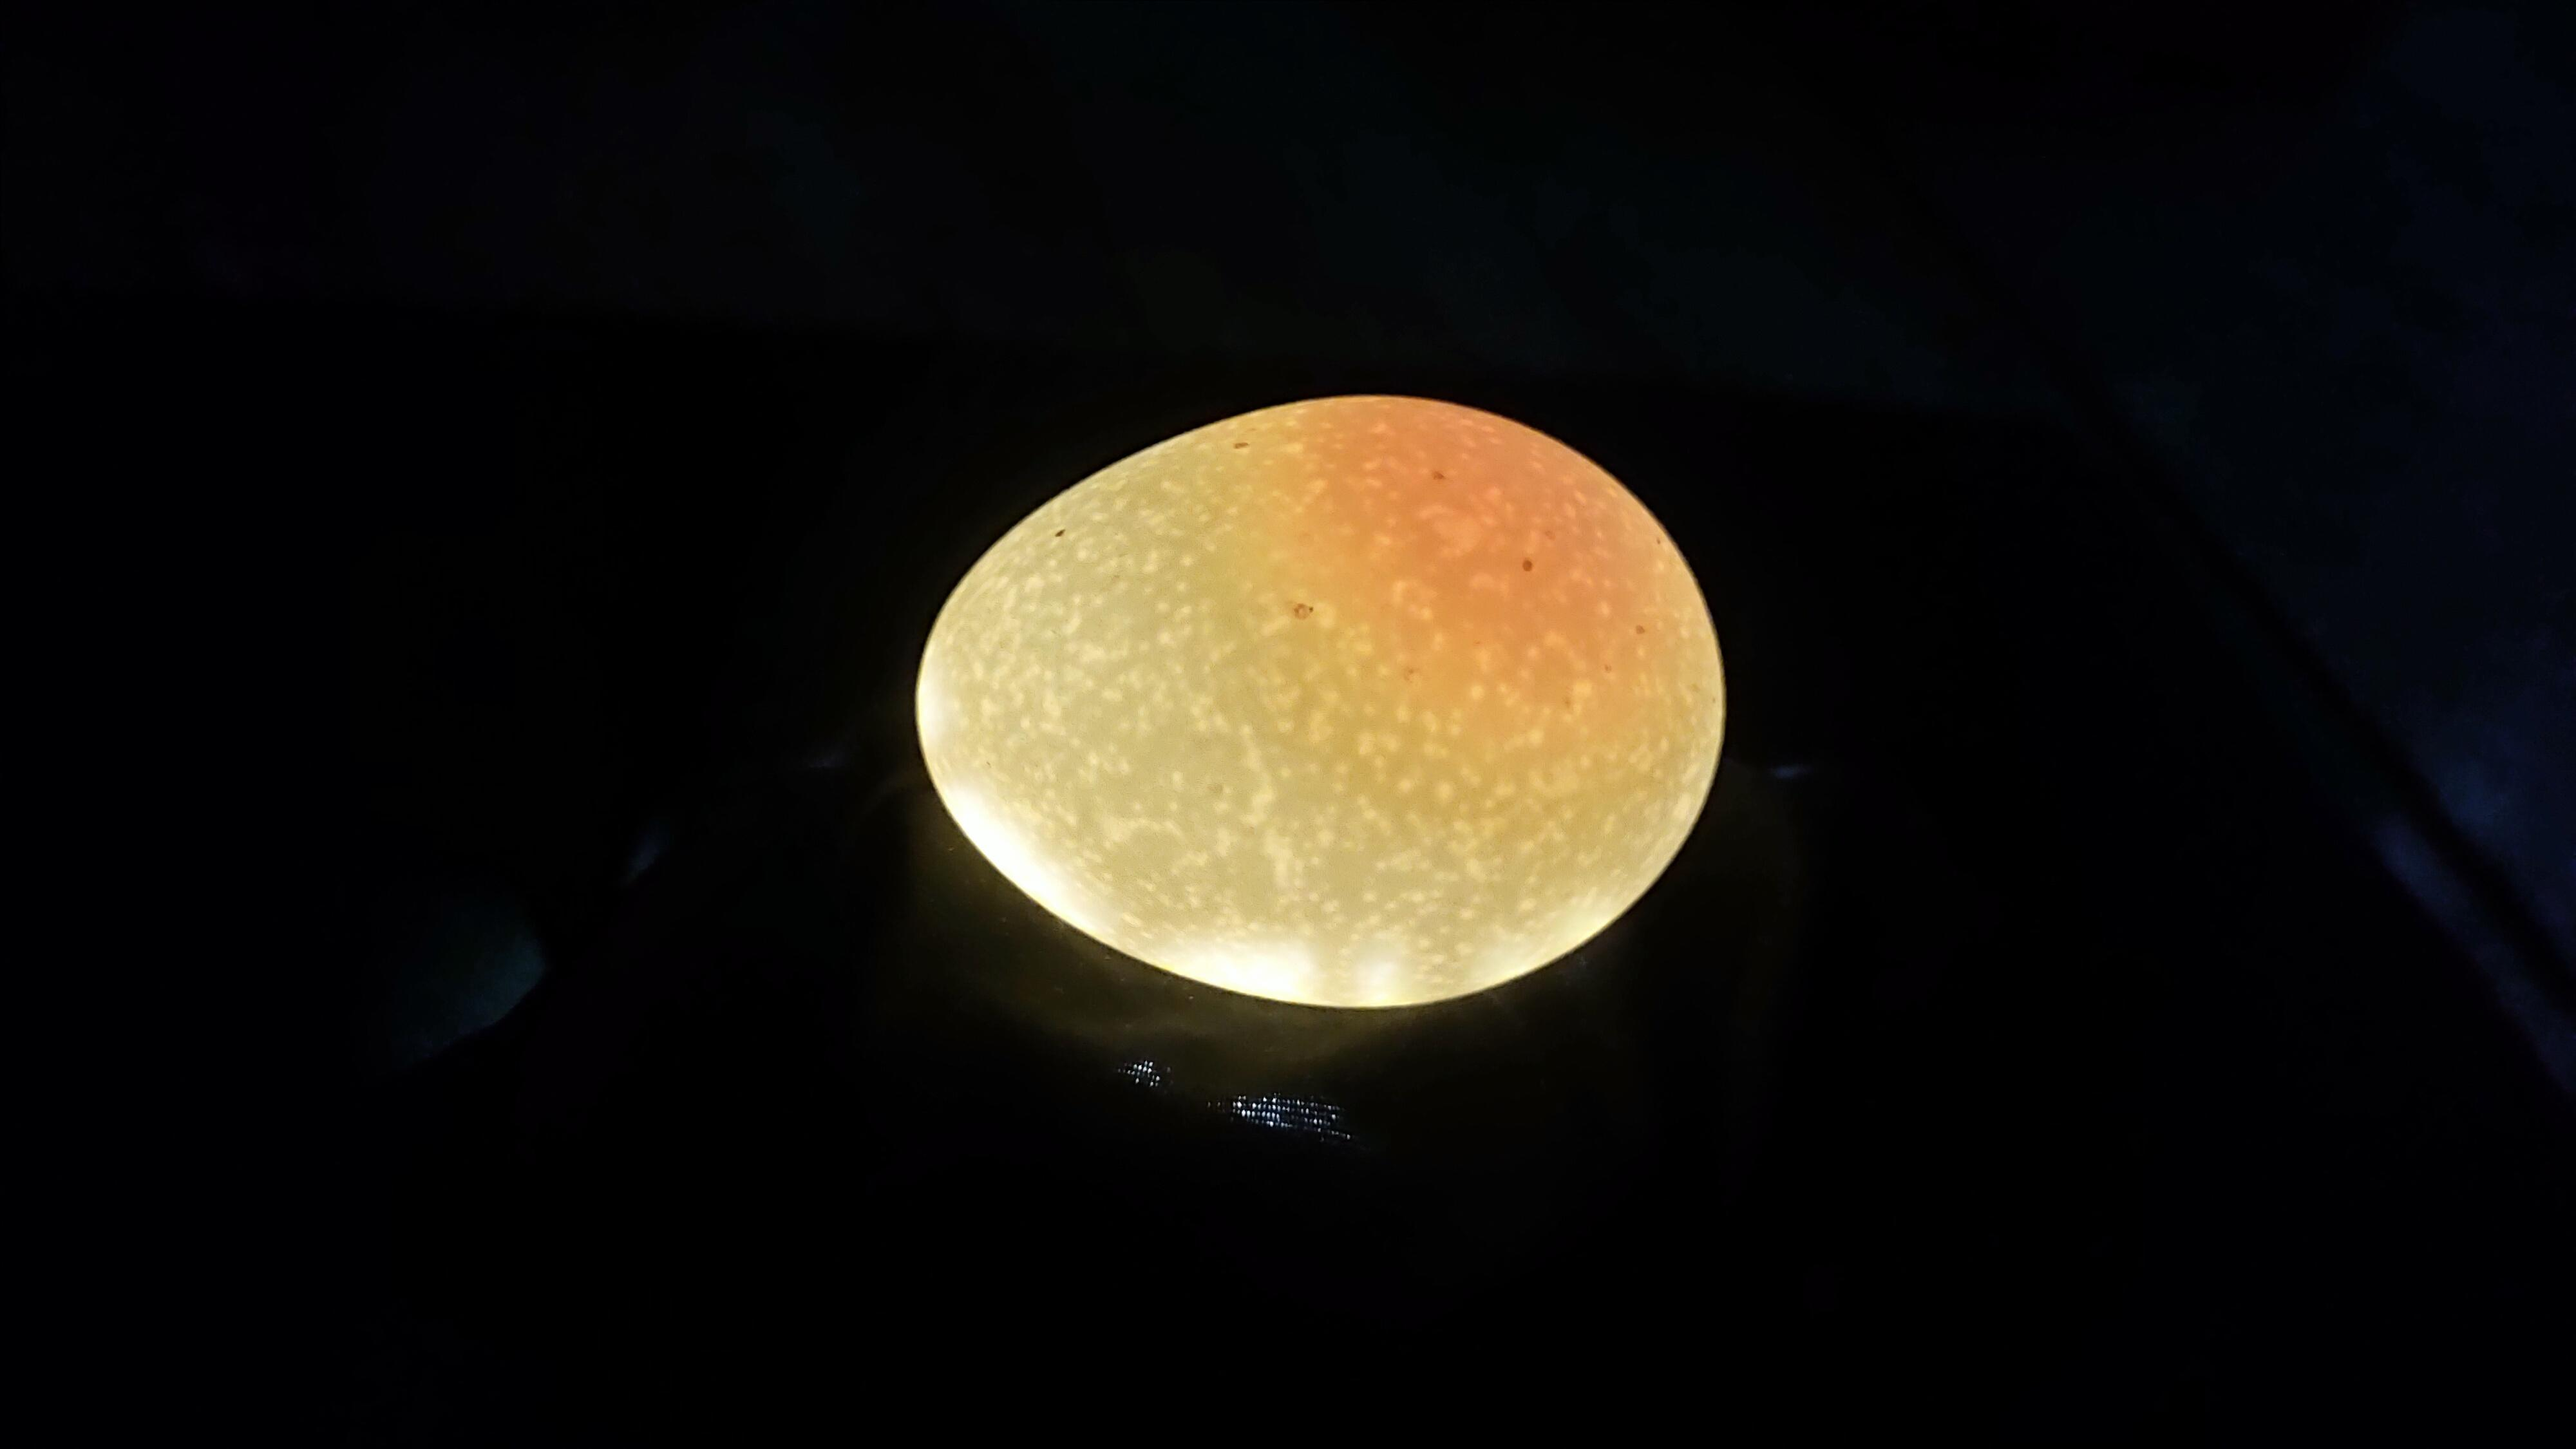Inedible: (876, 370, 1771, 1046)
